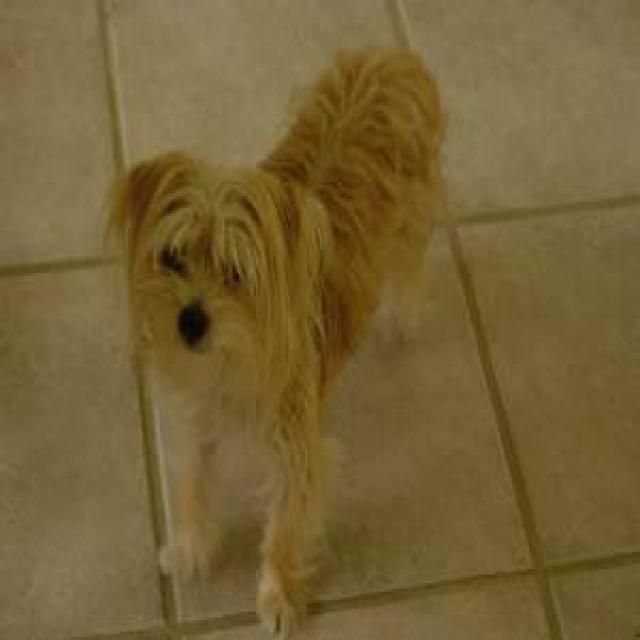dog-yorkshire_terrier: (94, 31, 448, 634)
